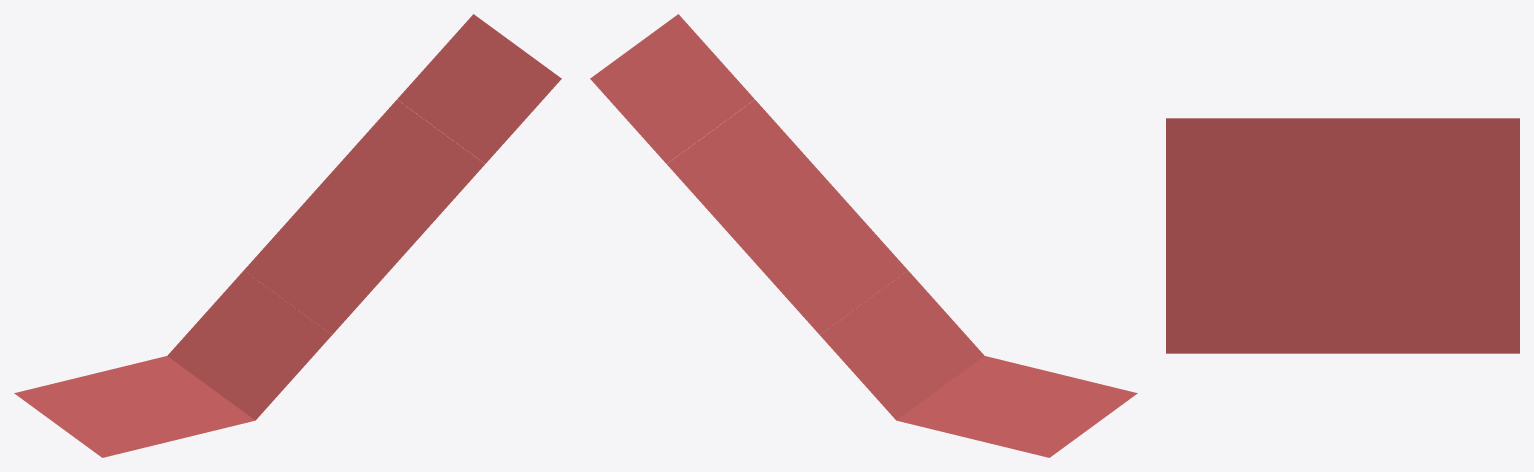
The model's file is km1_dorifu4.glb.
3 views of the same model, side by side, from view 1: azimuth 30°, elevation 25°; view 2: azimuth 150°, elevation 25°; view 3: azimuth 270°, elevation 25° (orthographic). The views are drawn at different scales.
Visible parts, largest first — view 1: km1_dorifu4_col; view 2: km1_dorifu4_col; view 3: km1_dorifu4_col.
Boxes of the visible parts, box(x1,y1,x2,y2) form: km1_dorifu4_col: box(14, 14, 561, 457); km1_dorifu4_col: box(590, 14, 1137, 457); km1_dorifu4_col: box(1166, 118, 1519, 353).
Bounding box in the file's own units: 1.8 × 1 × 0.6.
